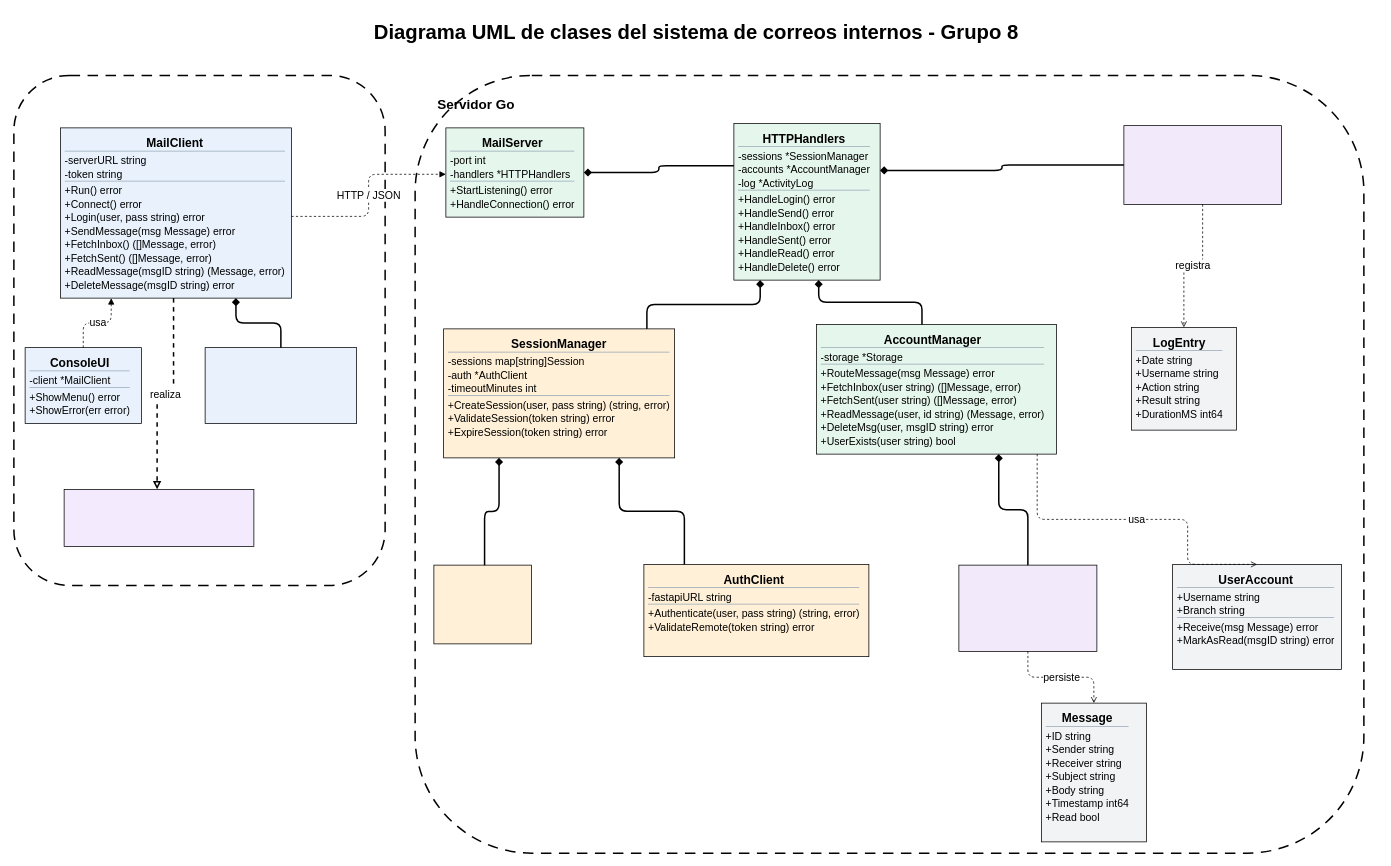
Some shapes in this 1391 by 866 pixel diagram are drawn without their labels. The shapes that lost their labels are listed below. From the top down, each one's box as (x1, y1, x2, y2) in pixels, then its label:
(1123, 125, 1281, 204): ActivityLog -logPath string +Record(entry LogEntry) error
(13, 74, 386, 586): Cliente Go
(204, 347, 357, 423): LocalMailbox -cachedMessages []Message +DisplayInbox() +DisplaySent()
(63, 489, 254, 546): <<interface>> IMessageSender +SendMessage(msg Message) error
(433, 564, 531, 644): Session +Token string +Username string -lastActivity int64
(958, 564, 1097, 651): Storage -filePath string +Save(msg Message) error +Load() ([]Message, error)
